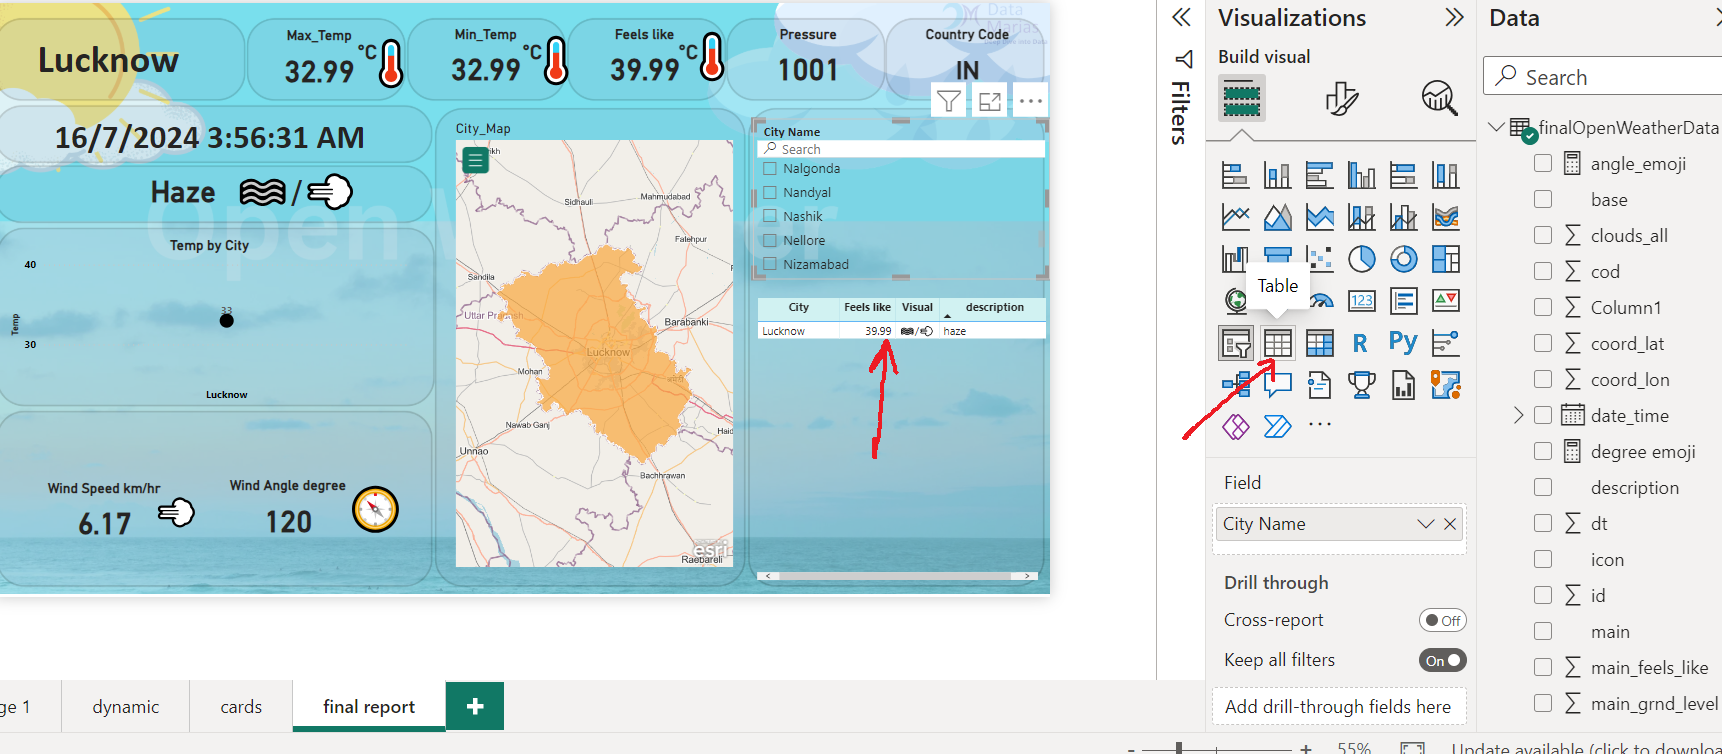

What the dashboard file says about the page in this screenshot:
{"tool":"powerbi","page":{"name":"final report","canvas":[1280,720],"ordinal":3},"visuals":[{"type":"card","title":"Max_Temp","fields":{"Values":["Sum(finalOpenWeatherData.main_temp_max)"]},"box":[308,28.3,173.9,81.3],"z":0},{"type":"card","title":"Min_Temp","fields":{"Values":["Sum(finalOpenWeatherData.main_temp_min)"]},"box":[508.4,26.5,173.9,81.3],"z":1000},{"type":"card","title":"Feels like","fields":{"Values":["Sum(finalOpenWeatherData.main_feels_like)"]},"box":[701.1,26.5,173.9,81.3],"z":2000},{"type":"card","title":"Pressure","fields":{"Values":["Sum(finalOpenWeatherData.main_pressure)"]},"box":[899.5,26.5,173.9,81.3],"z":3000},{"type":"card","title":"Wind Speed km/hr","fields":{"Values":["Sum(finalOpenWeatherData.wind_speed)"]},"box":[47.5,577.5,172.5,80],"z":4000},{"type":"card","fields":{"Values":["Min(finalOpenWeatherData.name)"]},"box":[0,24.6,275.9,83.2],"z":5000},{"type":"card","fields":{"Values":["Min(finalOpenWeatherData.date_time)"]},"box":[15.1,126.6,493.2,64.3],"z":6000},{"type":"slicer","fields":{"Values":["finalOpenWeatherData.name"]},"box":[920.3,139.8,359.1,194.6],"z":7000},{"type":"card","fields":{"Values":["finalOpenWeatherData.temperature"]},"box":[430.9,9.4,100.2,120.9],"z":8000},{"type":"card","fields":{"Values":["finalOpenWeatherData.temperature"]},"box":[631.2,5.7,100.2,120.9],"z":9000},{"type":"card","fields":{"Values":["finalOpenWeatherData.temperature"]},"box":[820.2,0,100.2,120.9],"z":10000},{"type":"card","fields":{"Values":["finalOpenWeatherData.degree emoji"]},"box":[421.4,24.6,60.5,66.1],"z":11000},{"type":"card","fields":{"Values":["finalOpenWeatherData.degree emoji"]},"box":[621.7,24.6,60.5,66.1],"z":12000},{"type":"card","fields":{"Values":["finalOpenWeatherData.degree emoji"]},"box":[810.7,24.6,60.5,66.1],"z":13000},{"type":"tableEx","fields":{"Values":["finalOpenWeatherData.name","Sum(finalOpenWeatherData.main_feels_like)","finalOpenWeatherData.WeatherEmoji","finalOpenWeatherData.description"]},"box":[920.3,353.4,359.1,351.5],"z":14000},{"type":"card","fields":{"Values":["finalOpenWeatherData.windspeed emoji"]},"box":[177.5,570,85,87.5],"z":15000},{"type":"lineChart","title":"Temp by City","fields":{"Category":["finalOpenWeatherData.name"],"Y":["Sum(finalOpenWeatherData.main_temp_max)"]},"box":[15,283.3,493.3,208.3],"z":16000},{"type":"card","fields":{"Values":["finalOpenWeatherData.WeatherEmoji"]},"box":[280,190.9,172.7,69.1],"z":17000},{"type":"esriVisual","title":"City_Map","fields":{"Location":["finalOpenWeatherData.name"]},"box":[554.9,140.9,345.7,546.1],"z":18000},{"type":"card","title":"Wind Angle degree","fields":{"Values":["Sum(finalOpenWeatherData.wind_deg)"]},"box":[260,575,192.5,82.5],"z":19000},{"type":"card","fields":{"Values":["finalOpenWeatherData.angle_emoji"]},"box":[395,562.5,135,95],"z":20000},{"type":"card","fields":{"Values":["Min(finalOpenWeatherData.main)"]},"box":[63.6,181.8,330.9,87.3],"z":21000},{"type":"card","title":"Country Code","fields":{"Values":["Min(finalOpenWeatherData.sys_country)"]},"box":[1100,27.3,160,83.6],"z":22000}]}

Visuals, with their boxes on the page's 1280x720 design canvas (x1, y1, x2, y2). These are canvas units, not pixel positions in the 1722x754 screenshot, which may show the page scaled, cropped or inside an application window:
"Max_Temp" card: pyautogui.locateOnScreen(308, 28, 482, 110)
"Min_Temp" card: pyautogui.locateOnScreen(508, 26, 682, 108)
"Feels like" card: pyautogui.locateOnScreen(701, 26, 875, 108)
"Pressure" card: pyautogui.locateOnScreen(900, 26, 1073, 108)
"Wind Speed km/hr" card: pyautogui.locateOnScreen(48, 578, 220, 658)
card - Min(finalOpenWeatherData.name): pyautogui.locateOnScreen(0, 25, 276, 108)
card - Min(finalOpenWeatherData.date_time): pyautogui.locateOnScreen(15, 127, 508, 191)
slicer - finalOpenWeatherData.name: pyautogui.locateOnScreen(920, 140, 1279, 334)
card - finalOpenWeatherData.temperature: pyautogui.locateOnScreen(431, 9, 531, 130)
card - finalOpenWeatherData.temperature: pyautogui.locateOnScreen(631, 6, 731, 127)
card - finalOpenWeatherData.temperature: pyautogui.locateOnScreen(820, 0, 920, 121)
card - finalOpenWeatherData.degree emoji: pyautogui.locateOnScreen(421, 25, 482, 91)
card - finalOpenWeatherData.degree emoji: pyautogui.locateOnScreen(622, 25, 682, 91)
card - finalOpenWeatherData.degree emoji: pyautogui.locateOnScreen(811, 25, 871, 91)
tableEx - finalOpenWeatherData.name x Sum(finalOpenWeatherData.main_feels_like): pyautogui.locateOnScreen(920, 353, 1279, 705)
card - finalOpenWeatherData.windspeed emoji: pyautogui.locateOnScreen(178, 570, 262, 658)
"Temp by City" lineChart: pyautogui.locateOnScreen(15, 283, 508, 492)
card - finalOpenWeatherData.WeatherEmoji: pyautogui.locateOnScreen(280, 191, 453, 260)
"City_Map" esriVisual: pyautogui.locateOnScreen(555, 141, 901, 687)
"Wind Angle degree" card: pyautogui.locateOnScreen(260, 575, 452, 658)
card - finalOpenWeatherData.angle_emoji: pyautogui.locateOnScreen(395, 562, 530, 658)
card - Min(finalOpenWeatherData.main): pyautogui.locateOnScreen(64, 182, 394, 269)
"Country Code" card: pyautogui.locateOnScreen(1100, 27, 1260, 111)
